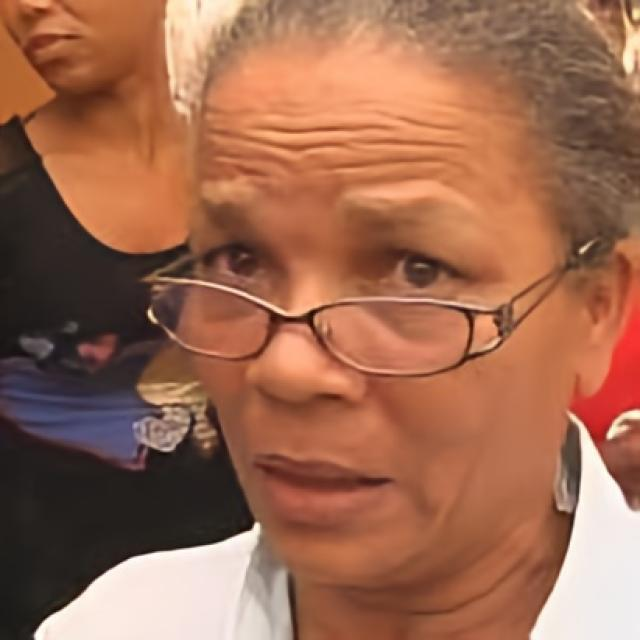sad: (158, 120, 574, 589)
